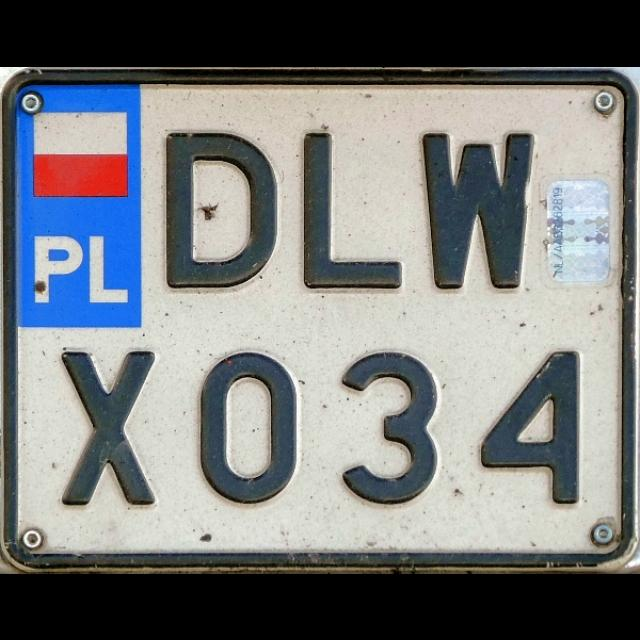pl_license_plate: (18, 84, 620, 548)
